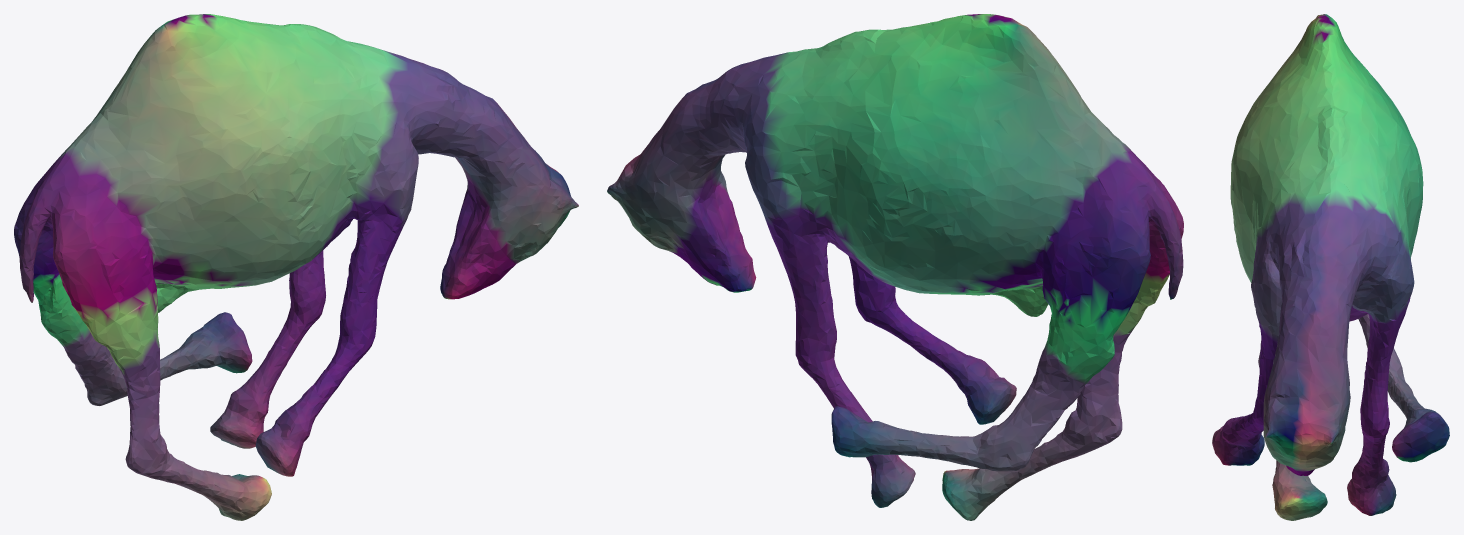
The model's file is camel-13.off.obj.
The picture shows the model from 3 angles, left to right: view 1: azimuth 30°, elevation 25°; view 2: azimuth 150°, elevation 25°; view 3: azimuth 270°, elevation 25°; orthographic projection. The views are drawn at different scales.
Bounding box in the file's own units: 1.54 × 1.35 × 0.6047.
